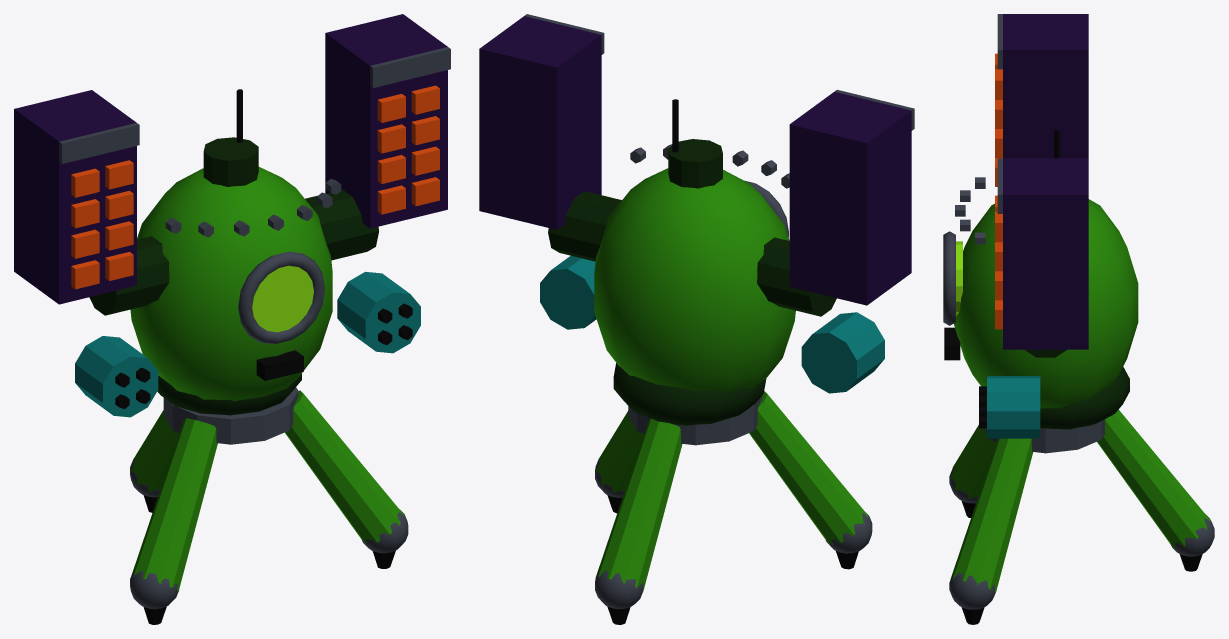
File: Enemy_spitter.fbx
3 renders of one model, left to right at view 1: azimuth 30°, elevation 25°; view 2: azimuth 150°, elevation 25°; view 3: azimuth 270°, elevation 25°, orthographic. The views are drawn at different scales.
Parts seen in each view (by area): view 1: Enemy_spitter; view 2: Enemy_spitter; view 3: Enemy_spitter.
Part boxes in pixels (<box>): Enemy_spitter: <box>14,14,450,624</box>; Enemy_spitter: <box>479,14,914,624</box>; Enemy_spitter: <box>943,14,1214,624</box>.
Bounding box in the file's own units: 0.8 × 0.96 × 0.5085.
